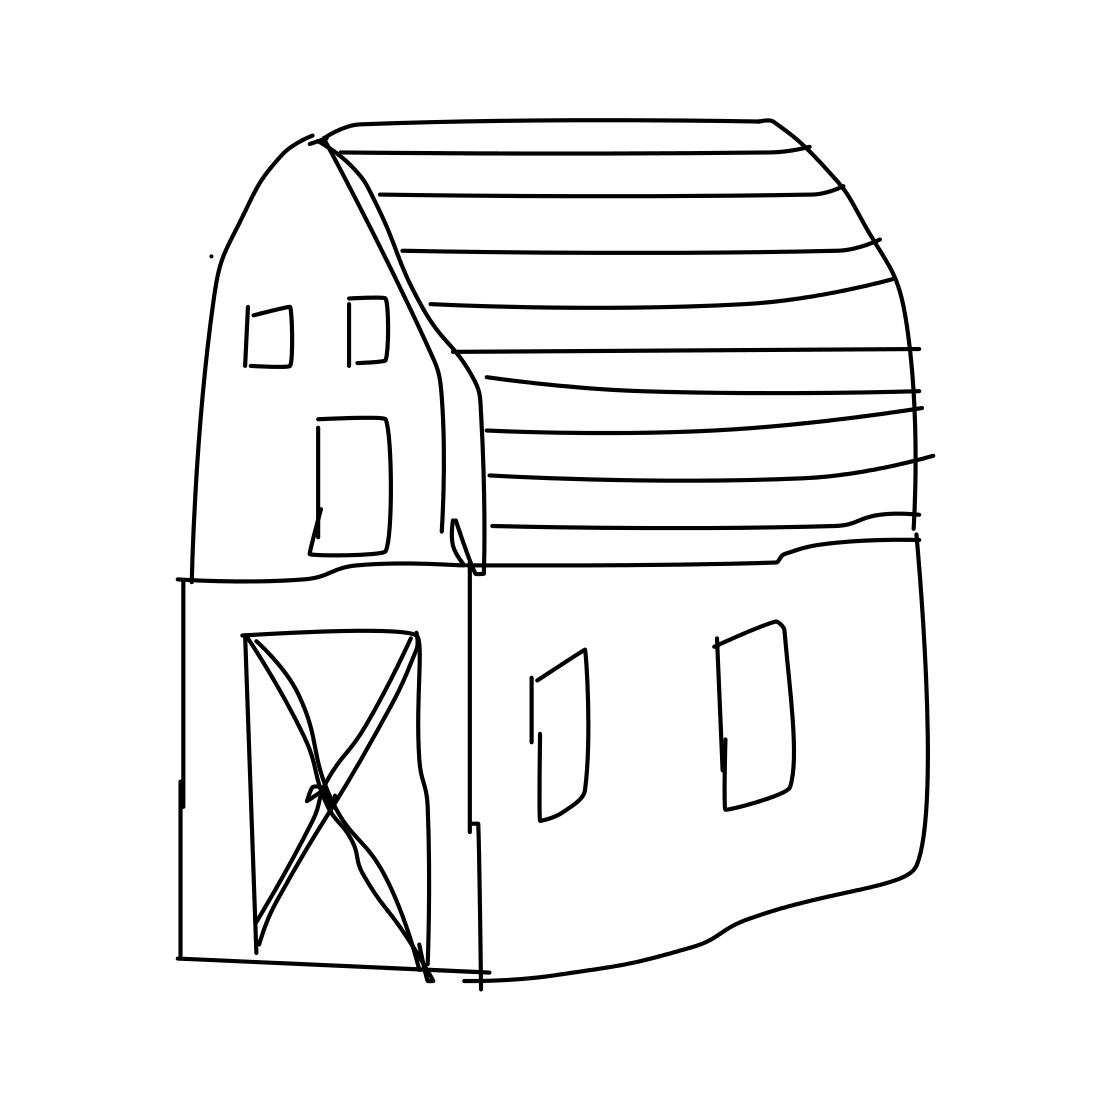House: (112, 59, 960, 996)
